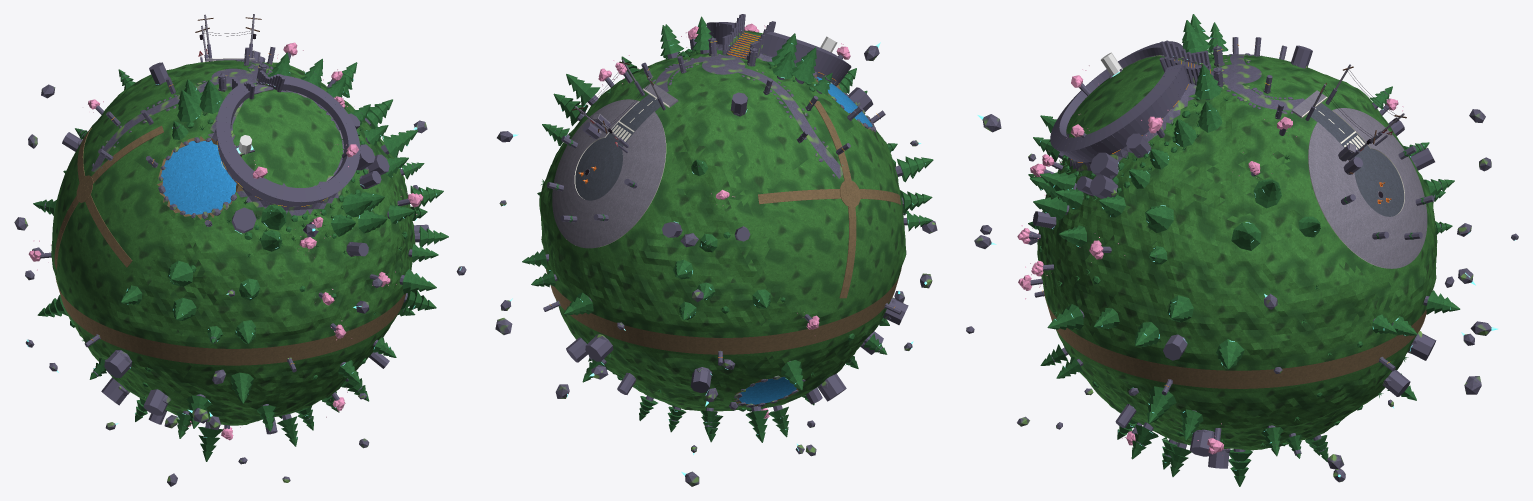
Rendered from planeta.glb.
3 views of the same model, side by side, from view 1: azimuth 30°, elevation 25°; view 2: azimuth 150°, elevation 25°; view 3: azimuth 270°, elevation 25° (orthographic). The views are drawn at different scales.
Visible parts, largest first — view 1: terreno, arvores, bloqueio_decor, bloqueio_barranco, trilha, agua_lago, rochas_flutuantes, trilha_vila, sakuras, arbustos, trilha_spawn_vila, lagos_margem; view 2: terreno, arvores, piso_calcada, bloqueio_decor, trilha, chao_asfalto, trilha_vila, rochas_flutuantes, bloqueio_barranco, trilha_spawn_vila, agua_lagoa_rasa, praca_props (+7 smaller); view 3: terreno, arvores, piso_calcada, bloqueio_decor, trilha, bloqueio_barranco, chao_asfalto, rochas_flutuantes, sakuras, arbustos, praca_props, trilha_templo.
Boxes of the visible parts, x1,y1,x2,y2 form: terreno: (51,60,415,425); arvores: (33,52,448,461); bloqueio_decor: (40,43,429,436); bloqueio_barranco: (216,70,360,206); trilha: (55,277,406,365); agua_lago: (161,140,236,214); rochas_flutuantes: (14,84,466,486); trilha_vila: (54,125,163,269); sakuras: (28,42,423,440); arbustos: (70,70,407,411); trilha_spawn_vila: (91,77,218,171); lagos_margem: (158,137,236,219); terreno: (539,30,906,411); arvores: (522,16,933,442); piso_calcada: (552,99,666,248); bloqueio_decor: (534,37,919,428); trilha: (546,266,901,354); chao_asfalto: (575,94,660,200); trilha_vila: (758,101,900,298); rochas_flutuantes: (495,42,937,486); bloqueio_barranco: (706,14,851,86); trilha_spawn_vila: (733,66,842,178); agua_lagoa_rasa: (739,377,796,404); praca_props: (555,59,659,222); terreno: (1037,54,1437,450); arvores: (1028,14,1460,486); piso_calcada: (1308,108,1427,268); bloqueio_decor: (1029,37,1444,468); trilha: (1044,291,1426,388); bloqueio_barranco: (1050,40,1209,162); chao_asfalto: (1307,103,1404,216); rochas_flutuantes: (966,109,1518,482); sakuras: (1017,65,1403,455); arbustos: (1038,52,1408,446); praca_props: (1313,64,1425,239); trilha_templo: (1210,71,1304,110).
Bounding box in the file's own units: 51.95 × 49.75 × 55.88.
Materials: 11 (7 with a texture image).
